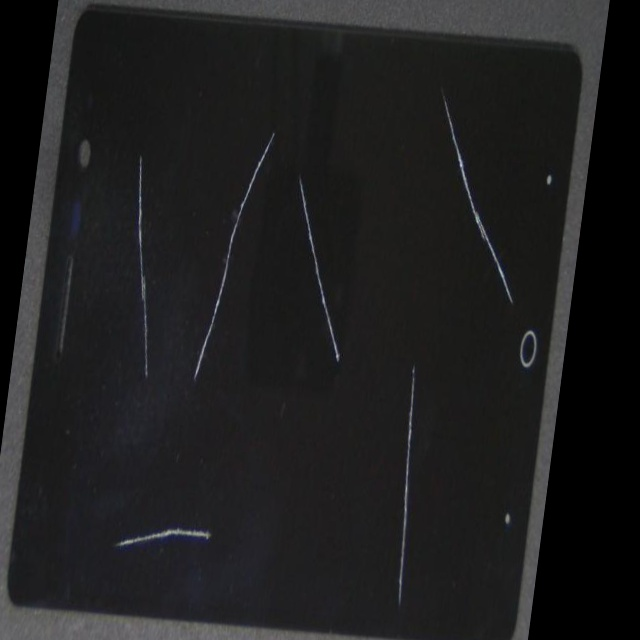scratch: (126, 143, 520, 627), (126, 235, 353, 640), (202, 414, 552, 640), (157, 0, 381, 339), (319, 224, 577, 385), (105, 278, 232, 513)
